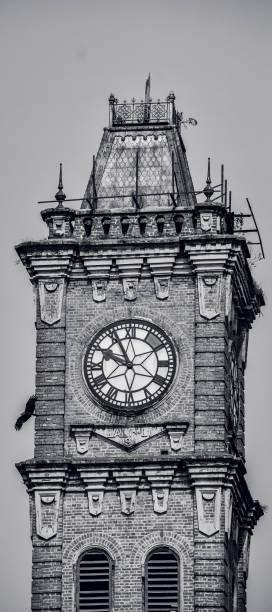clock: (84, 318, 177, 411)
